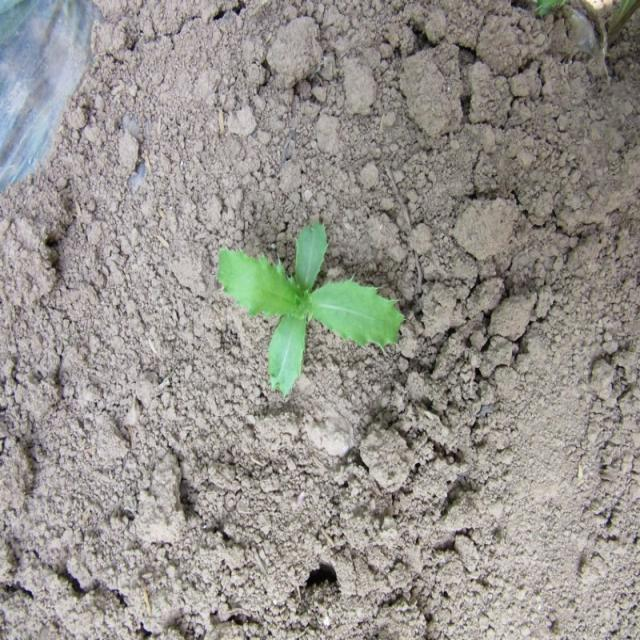cs: (212, 219, 406, 402)
